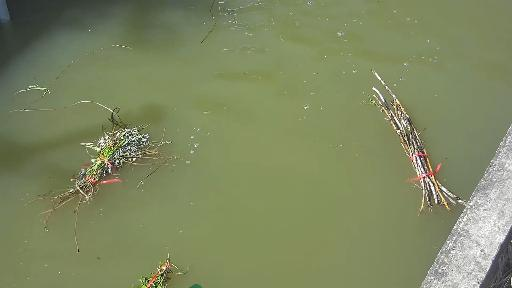plastic: (186, 280, 229, 288)
twig: (18, 33, 190, 226), (367, 64, 469, 228), (130, 243, 187, 288), (181, 0, 249, 34)
